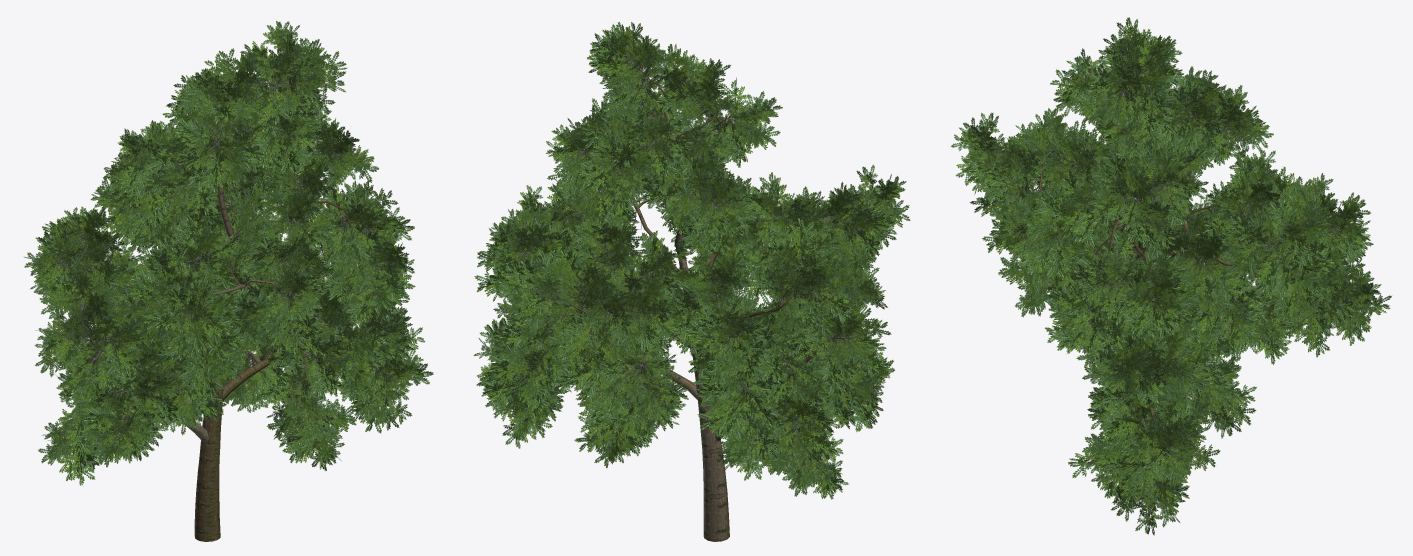
Rendered from tree_2.glb.
3 views of the same model, side by side, from view 1: azimuth 30°, elevation 25°; view 2: azimuth 150°, elevation 25°; view 3: azimuth 270°, elevation 25° (orthographic). The views are drawn at different scales.
Parts seen in each view (by area): view 1: tree_2; view 2: tree_2; view 3: tree_2.
Boxes of the visible parts, <box> form: tree_2: <box>24,21,433,541</box>; tree_2: <box>473,22,910,541</box>; tree_2: <box>951,17,1391,535</box>.
Bounding box in the file's own units: 7.16 × 8.22 × 6.72.
2 materials, 2 textured.
